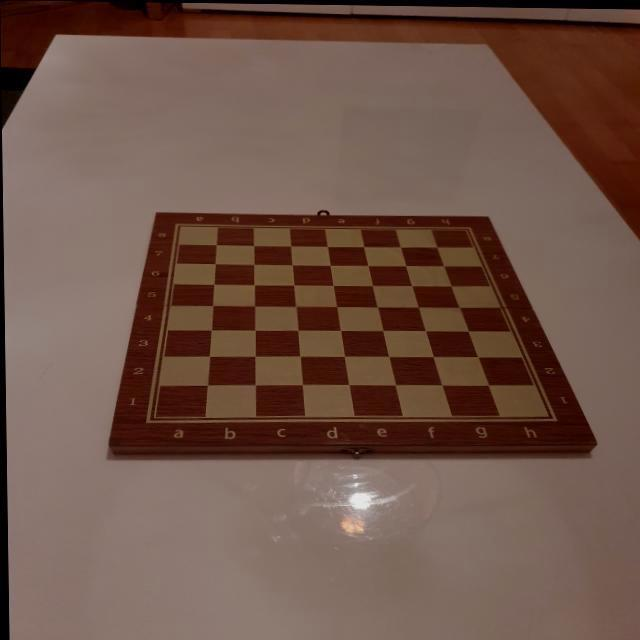chess-table-corners: (460, 221, 476, 233), (169, 218, 184, 230), (142, 414, 156, 426), (547, 412, 561, 422)
